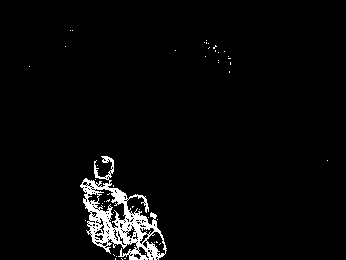person: (79, 154, 129, 260), (117, 189, 167, 260)
